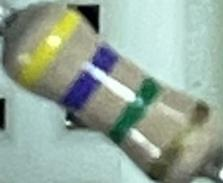Blue: (61, 41, 121, 116)
Green: (104, 75, 168, 151)
Side-Silver: (142, 99, 216, 183)
Yellow: (13, 6, 85, 91)
